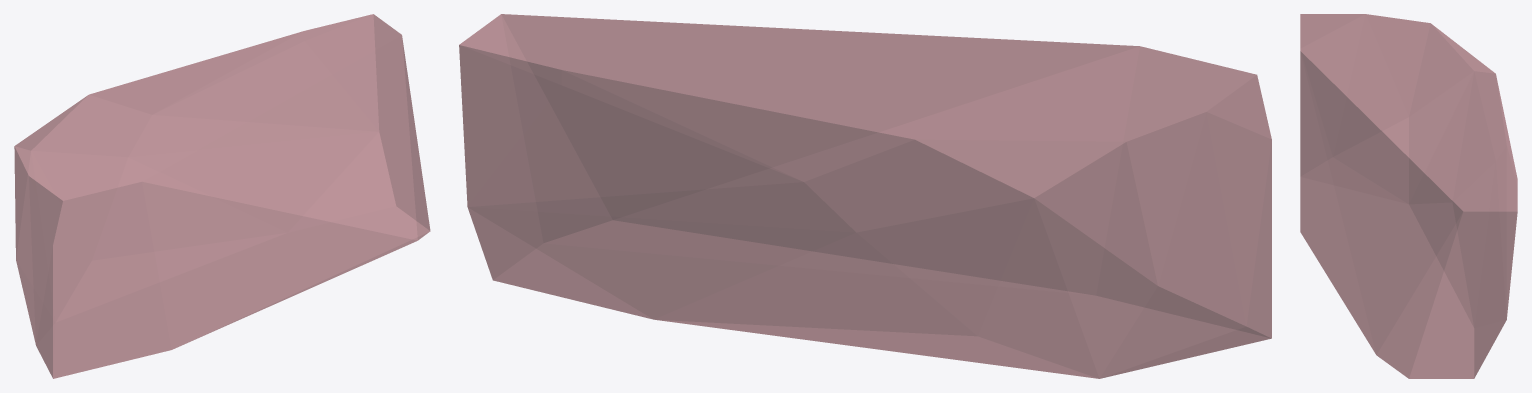
The picture shows the model from 3 angles, left to right: view 1: azimuth 30°, elevation 25°; view 2: azimuth 150°, elevation 25°; view 3: azimuth 270°, elevation 25°; orthographic projection. The views are drawn at different scales.
Parts seen in each view (by area): view 1: Shape_IndexedFaceSet.004_Shape_IndexedFaceSet.4423; view 2: Shape_IndexedFaceSet.004_Shape_IndexedFaceSet.4423; view 3: Shape_IndexedFaceSet.004_Shape_IndexedFaceSet.4423.
Part boxes in pixels (bbox=[...]): Shape_IndexedFaceSet.004_Shape_IndexedFaceSet.4423: bbox=[14, 14, 430, 378]; Shape_IndexedFaceSet.004_Shape_IndexedFaceSet.4423: bbox=[459, 14, 1271, 378]; Shape_IndexedFaceSet.004_Shape_IndexedFaceSet.4423: bbox=[1300, 14, 1517, 378].
Bounding box in the file's own units: 0.0141 × 0.00545 × 0.00641.
